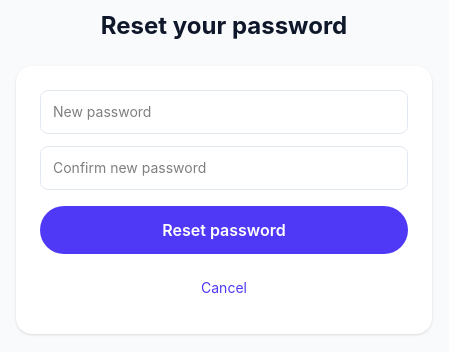
Test: ResetPasswordScreen › on success, shows a generic confirmation instead of the form
Type "new-password-123" into the password field with placeholder "New password" at (224, 112), box [40,90,408,134]
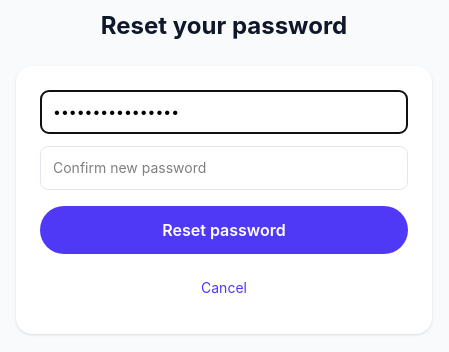
Type "new-password-123" into the password field with placeholder "Confirm new password" at (224, 168), box [40,146,408,190]
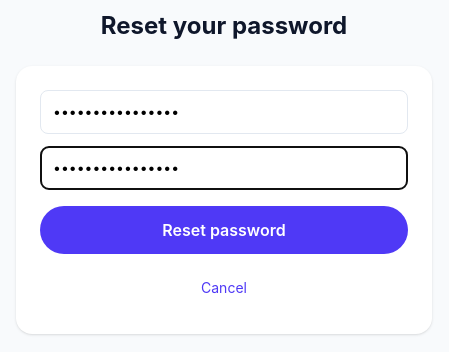
Click the button "Reset password" at (224, 230), box [40,206,408,254]
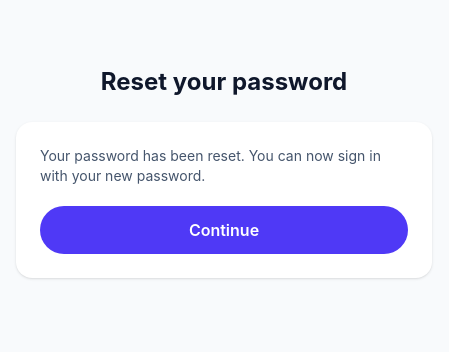
Now the text "Your password has been reset" is shown, box [40,147,381,184]
